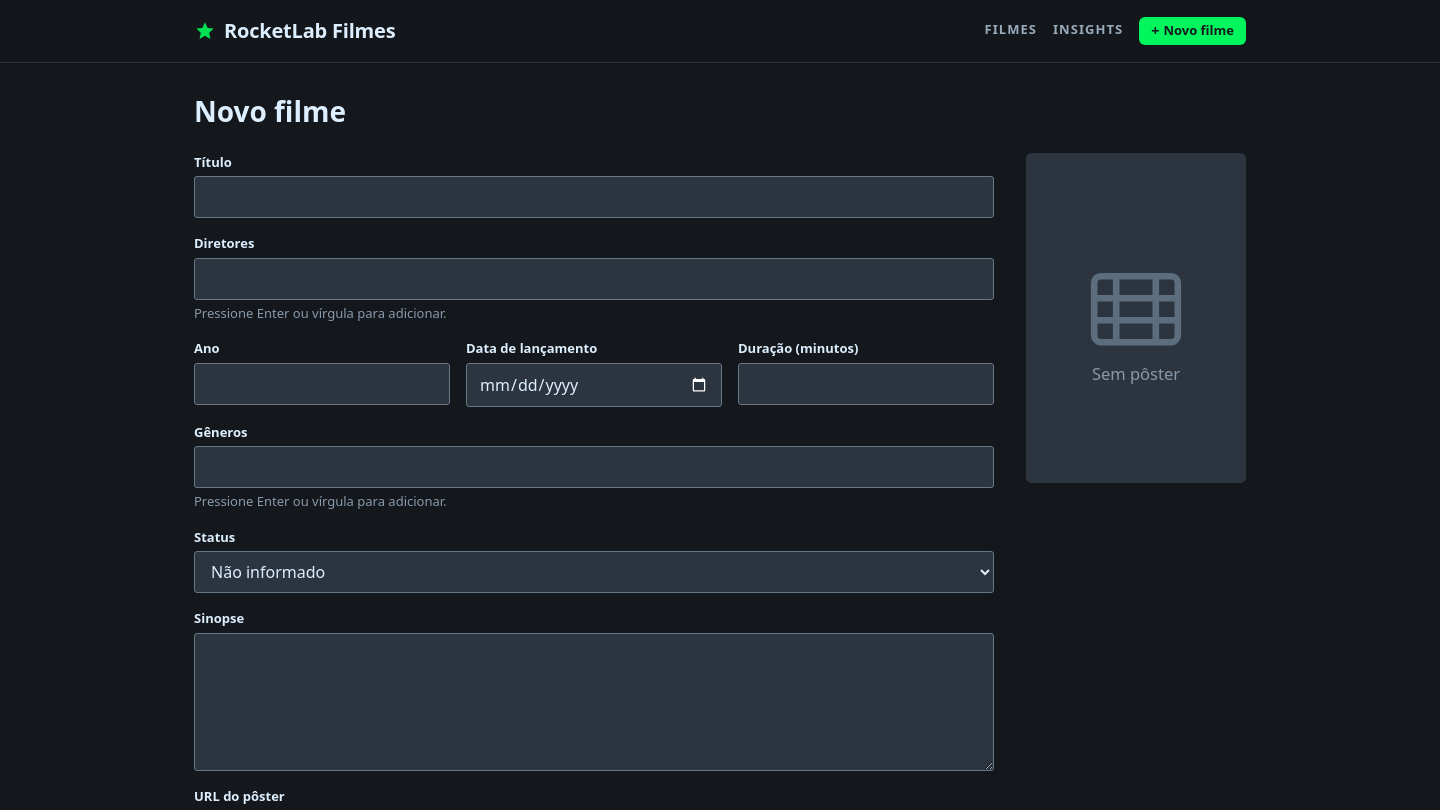
it: NewMoviePage — cadastro › mostra erros sem campo (ex.: 409) como alerta
Step 1. Type "Duna" into the field labelled "Título" → (594, 197), box x1=194 y1=176 x2=994 y2=218
(page scrolled)
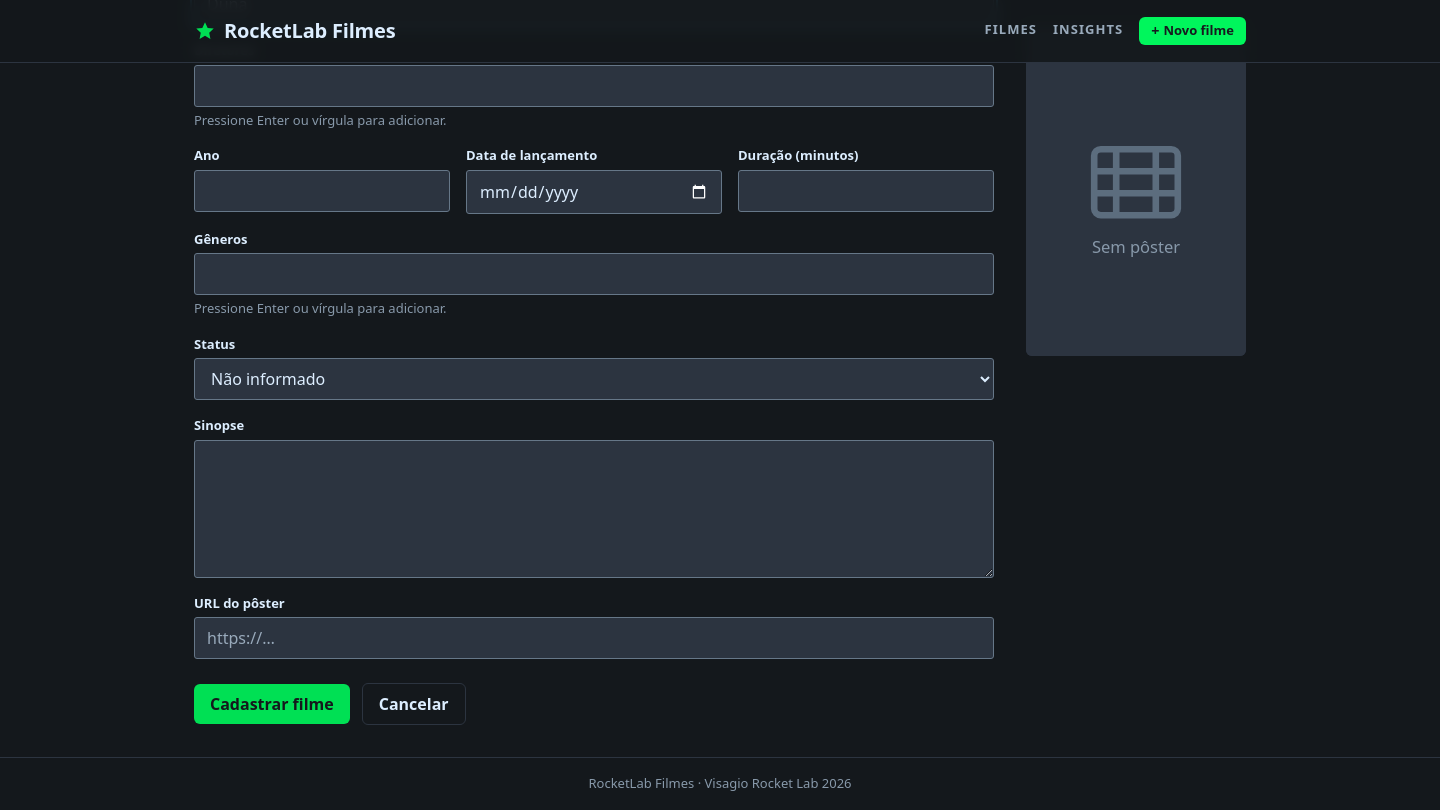
Step 2. Click the button "Cadastrar filme" → (272, 704), box x1=194 y1=684 x2=350 y2=724
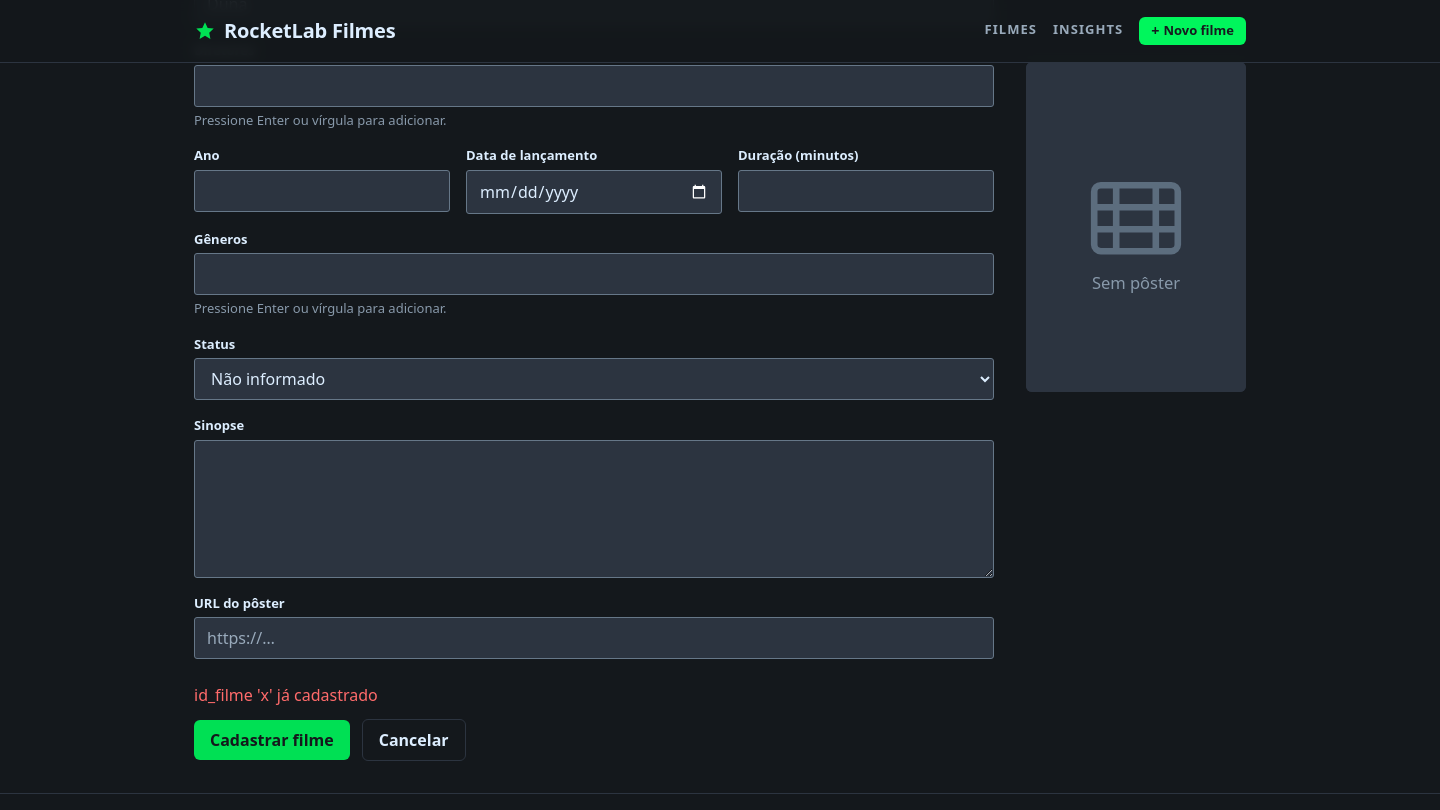
Expected: the message reads "id_filme 'x' já cadastrado", x1=194 y1=684 x2=378 y2=706
